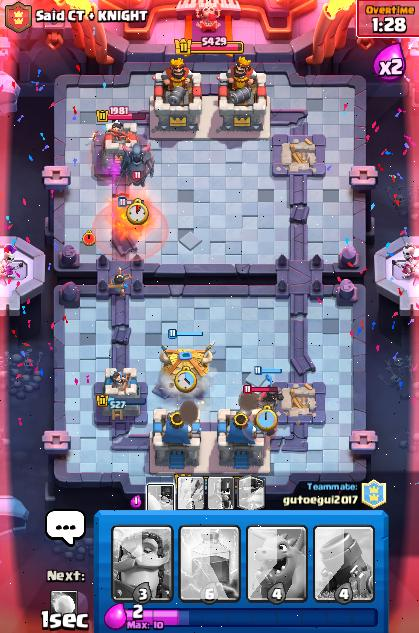EBigPekka: (121, 143, 153, 186)
EKingTower: (217, 57, 268, 130), (153, 58, 201, 130)
EMegaKnight: (244, 385, 278, 409)
EnemyPrincessTower: (103, 120, 146, 167)
ODarkPrince: (262, 374, 282, 407)
OGoblinHut: (159, 344, 212, 396)
OPrincess: (110, 268, 131, 296)
OwnKingTower: (151, 401, 200, 471), (218, 410, 264, 469)
OwnPrincessTower: (95, 369, 146, 420)
TowerDown: (274, 134, 325, 176), (275, 382, 325, 423)
